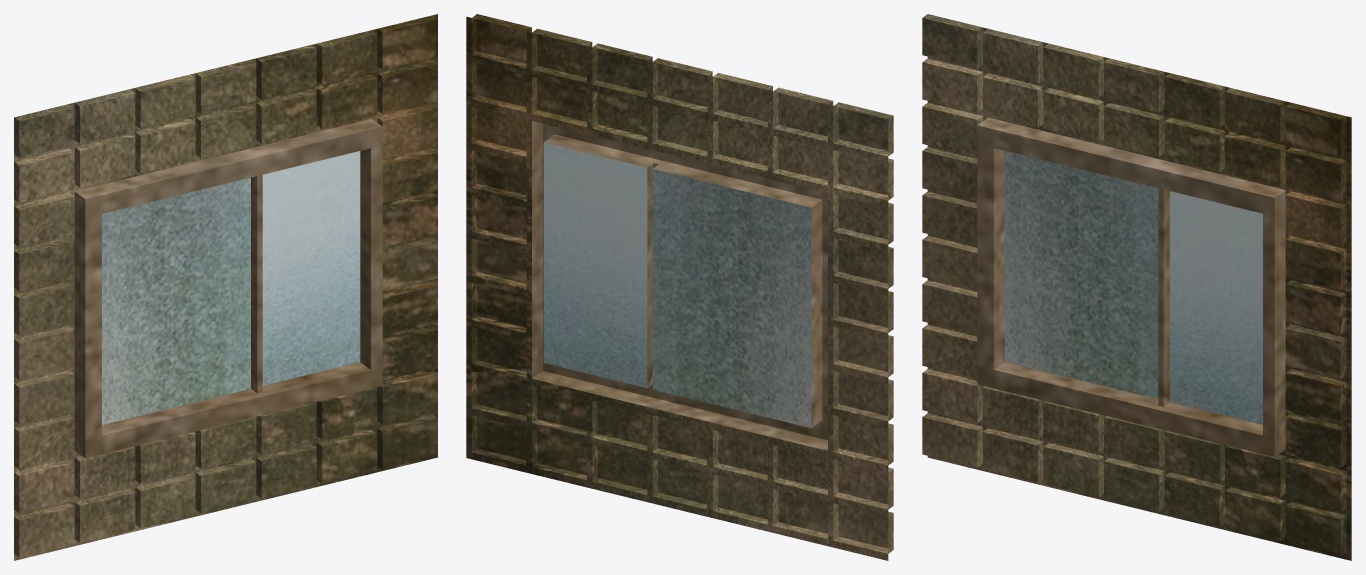
File: Ventana_01.fbx
The picture shows the model from 3 angles, left to right: view 1: azimuth 30°, elevation 25°; view 2: azimuth 150°, elevation 25°; view 3: azimuth 330°, elevation 25°; orthographic projection.
Parts seen in each view (by area): view 1: Plane.001; view 2: Plane.001; view 3: Plane.001.
Part boxes in pixels (box(x1,y1,x2,y2)): Plane.001: box(14, 14, 437, 560); Plane.001: box(466, 14, 893, 560); Plane.001: box(922, 14, 1351, 560).
Bounding box in the file's own units: 600 × 600 × 26.61.
